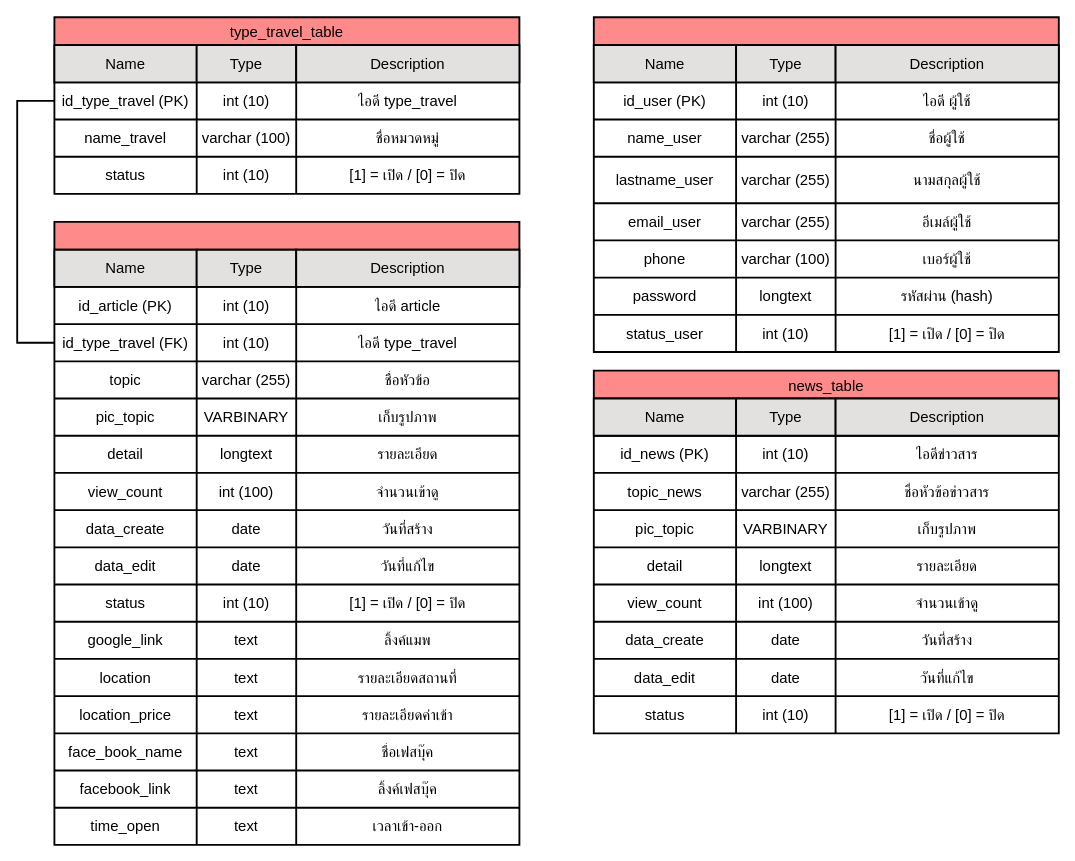
Some shapes in this 1075 by 861 pixel diagram are drawn without their labels. The shapes that lost their labels are listed below. From the top down, each one's box as (x1, y1, x2, y2) in pixels, then its label:
(592, 16, 1059, 352): user_table
(53, 220, 520, 845): article_table
